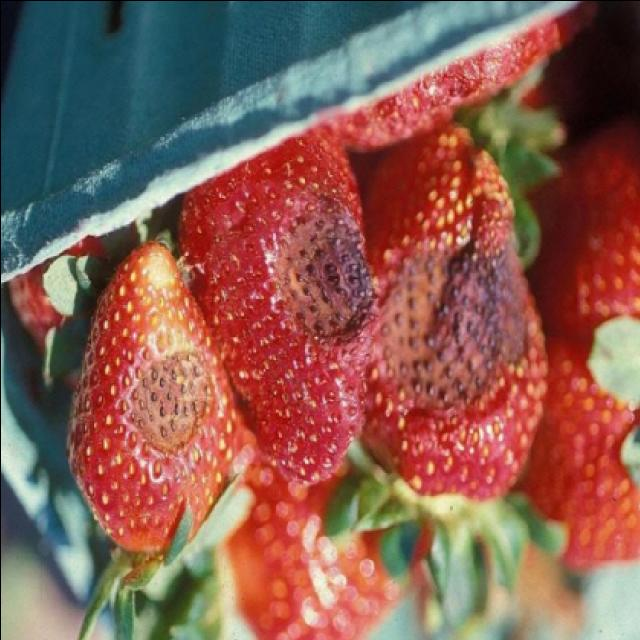Anthracnose Fruit Rot: (371, 229, 537, 429), (262, 191, 378, 350), (119, 343, 217, 465)
